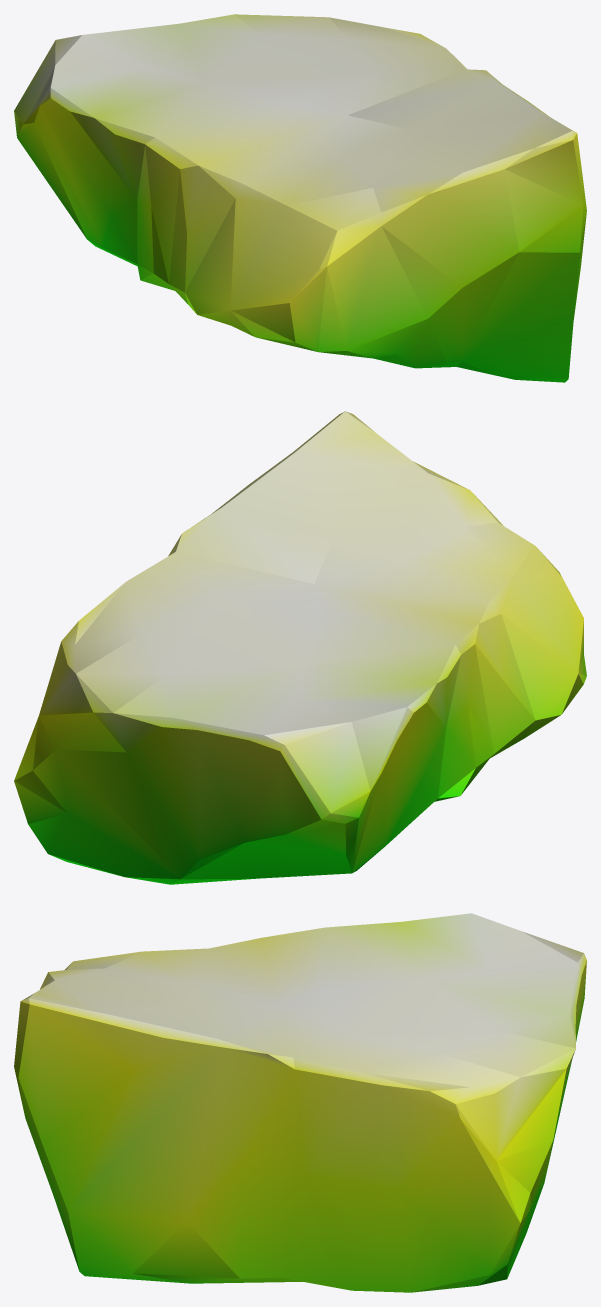
The model's file is rock_solo_02_LOD1.fbx.
3 renders of one model, top to bottom at view 1: azimuth 30°, elevation 25°; view 2: azimuth 150°, elevation 25°; view 3: azimuth 270°, elevation 25°, orthographic. The views are drawn at different scales.
Parts seen in each view (by area): view 1: LOD1; view 2: LOD1; view 3: LOD1.
Part boxes in pixels (bbox=[...]): LOD1: bbox=[14, 14, 586, 382]; LOD1: bbox=[14, 411, 586, 884]; LOD1: bbox=[14, 913, 586, 1292].
Size of the model in its own units: 37561 by 27190 by 52542.
